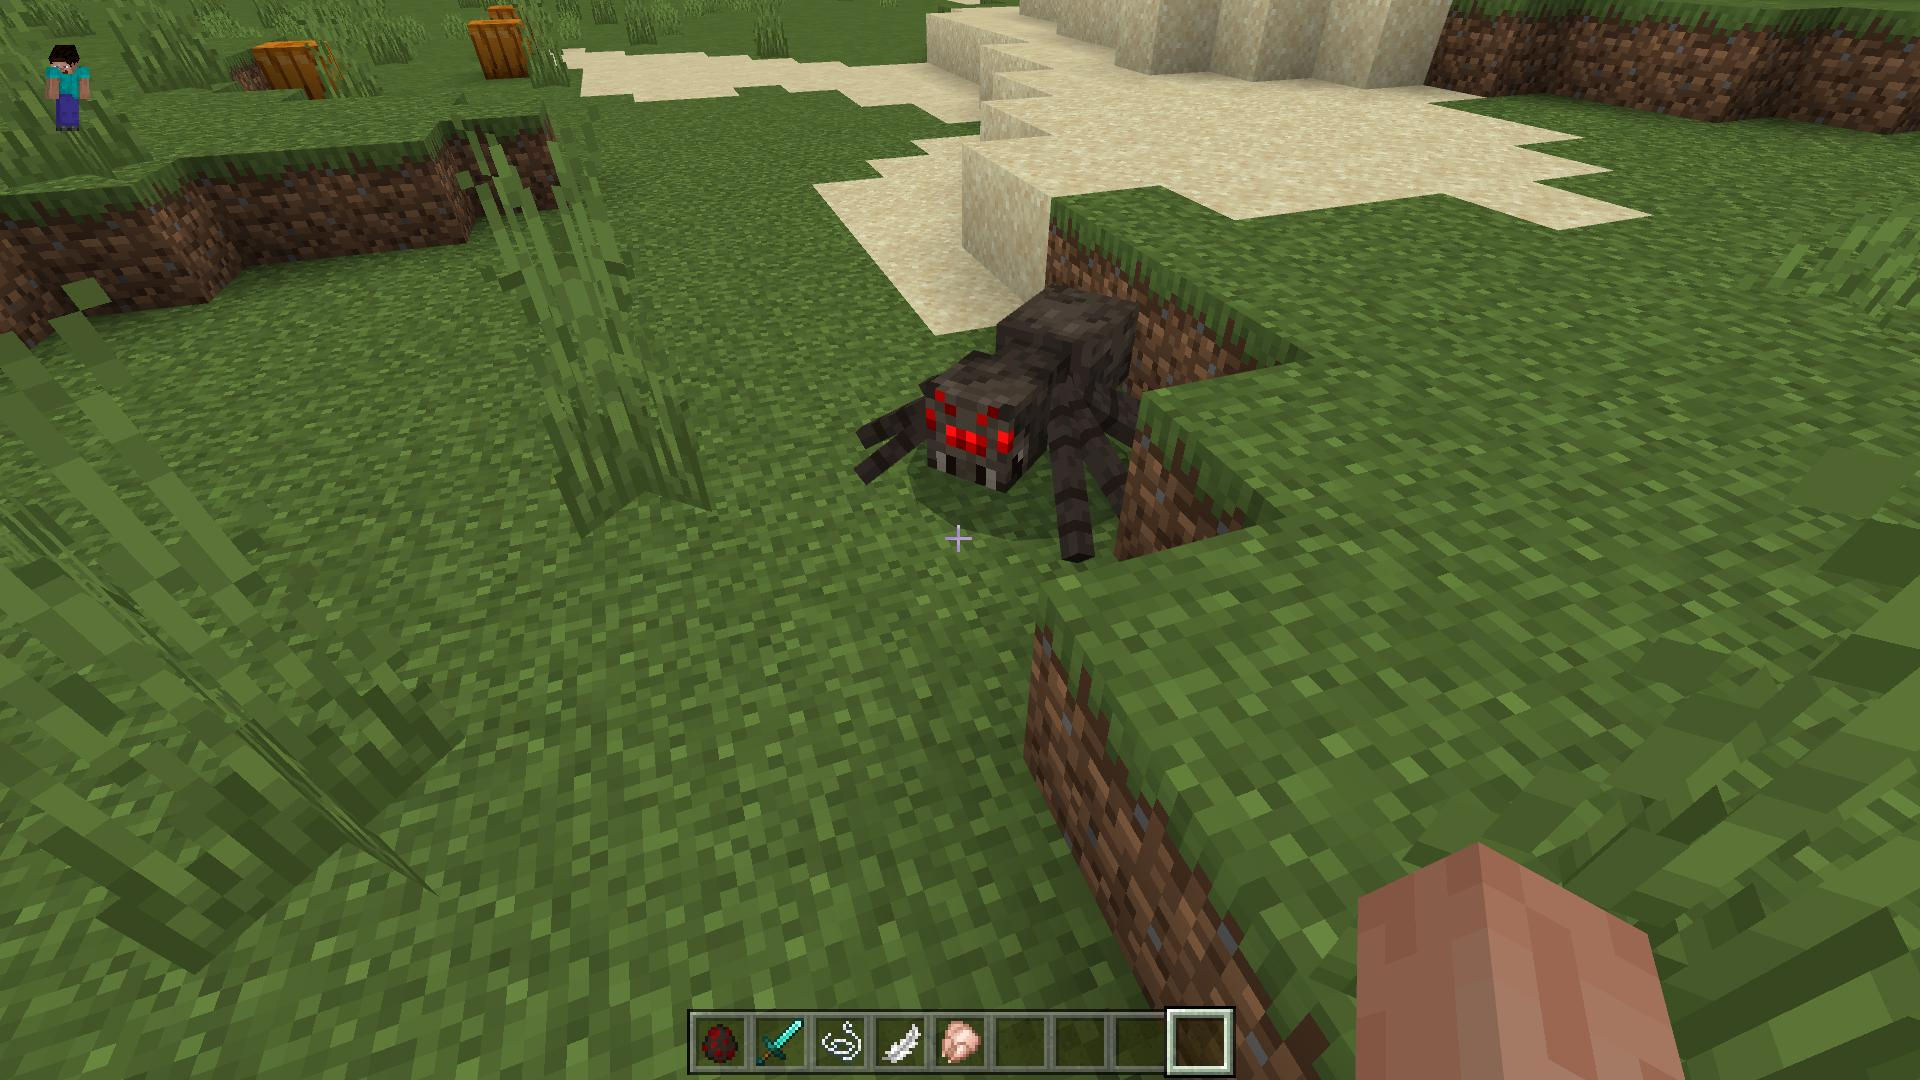spider: (858, 281, 1160, 564)
